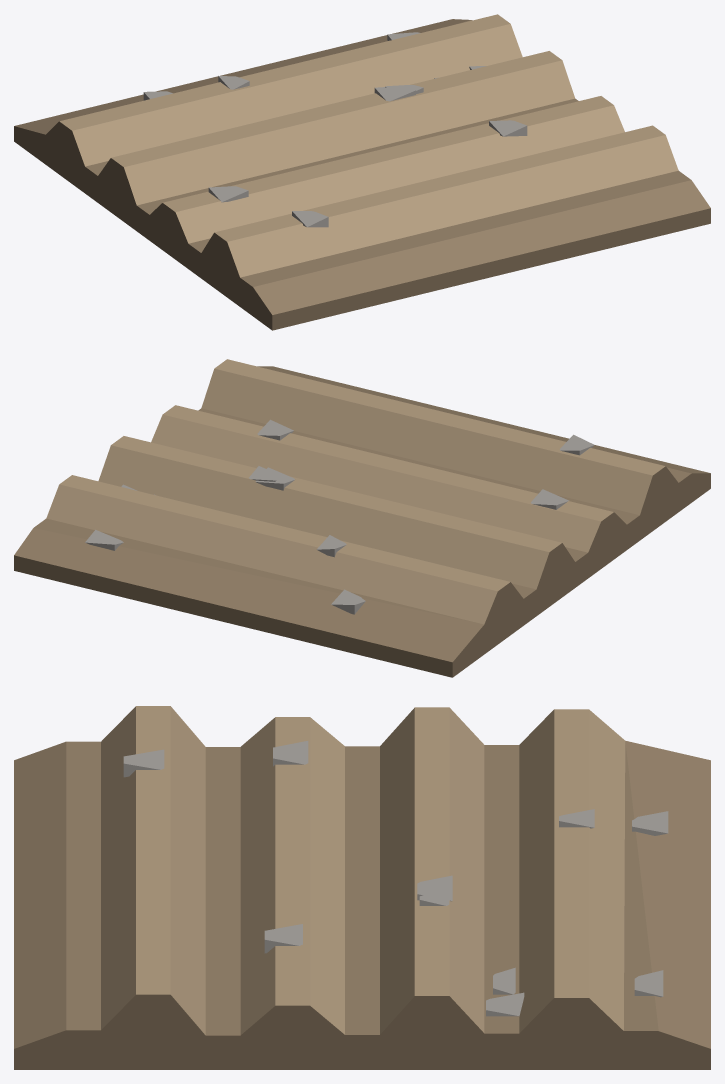
The model's file is 33-Agricultura_tierra_arada.glb.
The picture shows the model from 3 angles, top to bottom: view 1: azimuth 30°, elevation 25°; view 2: azimuth 150°, elevation 25°; view 3: azimuth 270°, elevation 25°; orthographic projection. The views are drawn at different scales.
Visible parts, largest first — view 1: SM_TierraArada_M_TierraArada_Cresta_TierraArada_Valle_Tierra; view 2: SM_TierraArada_M_TierraArada_Cresta_TierraArada_Valle_Tierra; view 3: SM_TierraArada_M_TierraArada_Cresta_TierraArada_Valle_Tierra.
Part boxes in pixels (box(x1,y1,x2,y2)): SM_TierraArada_M_TierraArada_Cresta_TierraArada_Valle_Tierra: box(14, 14, 710, 330); SM_TierraArada_M_TierraArada_Cresta_TierraArada_Valle_Tierra: box(14, 359, 710, 677); SM_TierraArada_M_TierraArada_Cresta_TierraArada_Valle_Tierra: box(14, 706, 710, 1069).
Size of the model in its own units: 0.98 by 0.1288 by 1.
